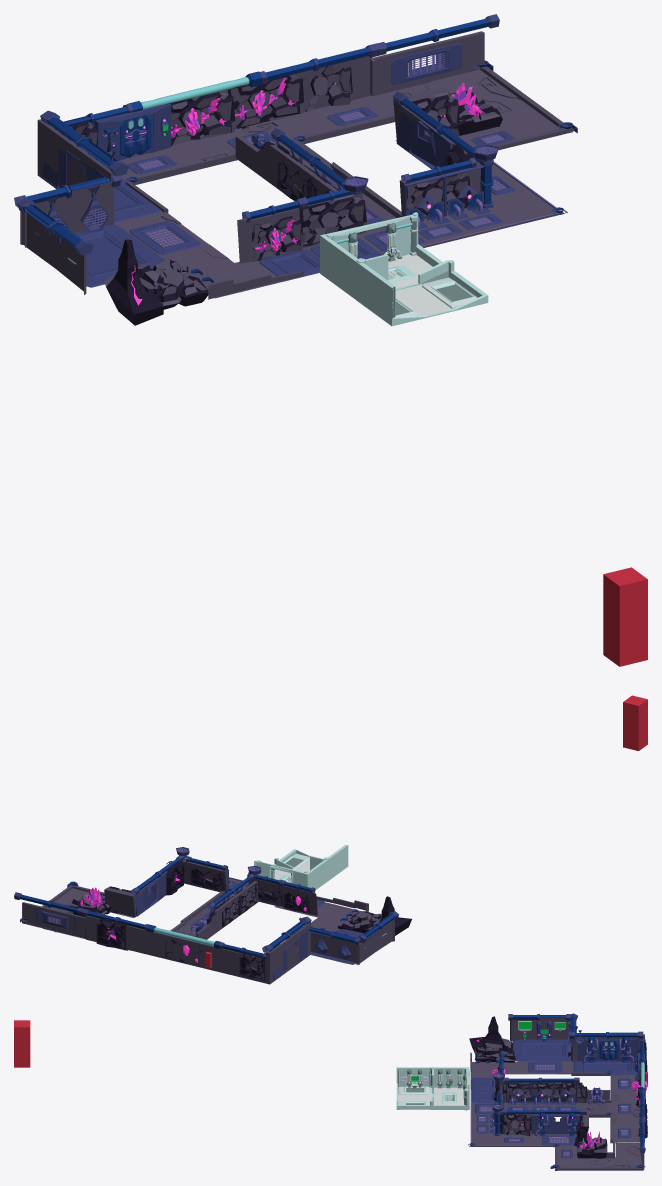
Rendered from Preset_Levelingcomplet.fbx.
The picture shows the model from 3 angles, top to bottom: view 1: azimuth 30°, elevation 25°; view 2: azimuth 150°, elevation 25°; view 3: azimuth 270°, elevation 25°; orthographic projection. The views are drawn at different scales.
Visible parts, largest first — view 1: LVL01.010, LVL01.008, LVL01.009, Mur_pierre_rien.004, Cube_personnage_tall, Plane.009, Plane.010, LVL01.006, Plane.013, LVL01.005, Mur_pierre_big_cristal.004, LVL01.004 (+28 smaller); view 2: LVL01.008, LVL01.010, LVL01.006, Plane.013, Cube_personnage_tall, Mur_pierre_rien.004, Plane.010, Mur_pierre._smallcristal.003, LVL01.004, contour_mur.004, LVL01.003, Mur_pierre_big_cristal.005 (+8 smaller); view 3: LVL01.009, LVL01.010, LVL01.005, Plane.009, Ventilation_sol.024, Mur_pierre_rien.004, Plane.010, LVL01.008, Cube_personnage_tall, Ventilation_sol.015, LVL01.004, contour_mur.004 (+26 smaller).
Boxes of the visible parts, box(x1,y1,x2,y2) form: LVL01.010: box(20, 31, 573, 294); LVL01.008: box(37, 56, 395, 224); LVL01.009: box(38, 95, 394, 188); Mur_pierre_rien.004: box(104, 239, 208, 325); Cube_personnage_tall: box(603, 567, 647, 666); Plane.009: box(374, 69, 558, 146); Plane.010: box(114, 211, 319, 298); LVL01.006: box(237, 87, 563, 263); Plane.013: box(235, 136, 401, 233); LVL01.005: box(310, 136, 557, 255); Mur_pierre_big_cristal.004: box(227, 74, 303, 129); LVL01.004: box(320, 212, 452, 299); LVL01.008: box(84, 915, 310, 984); LVL01.010: box(22, 884, 394, 964); LVL01.006: box(104, 859, 317, 917); Plane.013: box(180, 881, 258, 939); Cube_personnage_tall: box(623, 695, 647, 750); Mur_pierre_rien.004: box(337, 896, 411, 935); Plane.010: box(274, 902, 361, 963); Mur_pierre._smallcristal.003: box(96, 918, 128, 950); LVL01.004: box(254, 856, 328, 890); contour_mur.004: box(136, 873, 166, 916); LVL01.003: box(274, 844, 348, 880); Mur_pierre_big_cristal.005: box(69, 887, 111, 916); LVL01.009: box(576, 1075, 640, 1142); LVL01.010: box(510, 1018, 644, 1170); LVL01.005: box(471, 1090, 587, 1146); Plane.009: box(557, 1142, 641, 1167); Ventilation_sol.024: box(512, 1039, 571, 1061); Mur_pierre_rien.004: box(469, 1016, 515, 1062); Plane.010: box(472, 1061, 573, 1078); LVL01.008: box(571, 1034, 644, 1143); Cube_personnage_tall: box(14, 1020, 30, 1067); Ventilation_sol.015: box(573, 1061, 637, 1074); LVL01.004: box(432, 1067, 469, 1109); contour_mur.004: box(530, 1114, 580, 1134).
Bounding box in the file's own units: 2157 × 330 × 4277.
